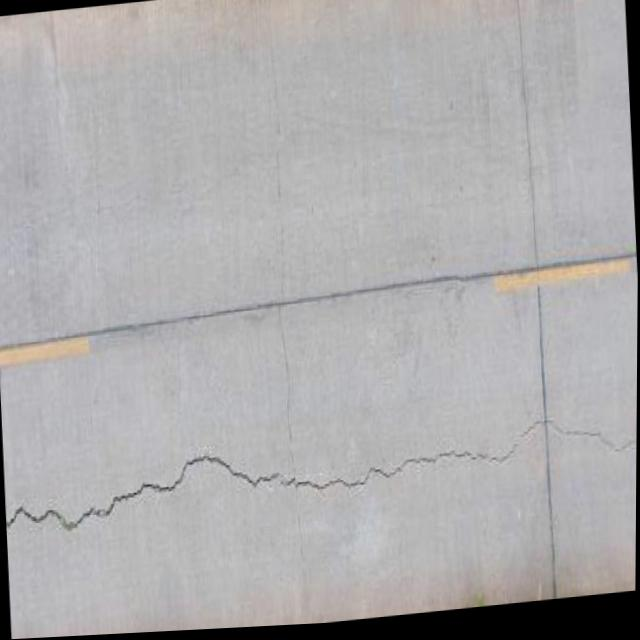Crack: (3, 411, 375, 558), (371, 389, 611, 501)
